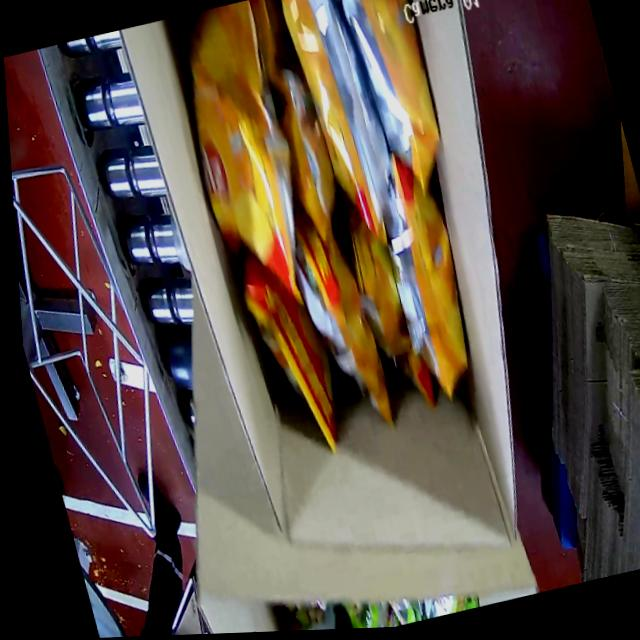FRENCH_CHEESE: (175, 0, 544, 469)
